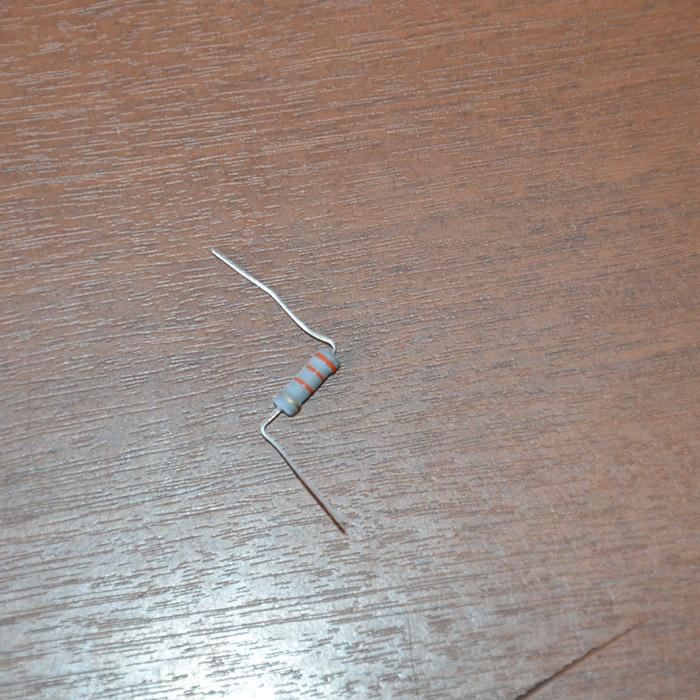resistor: (274, 345, 340, 416)
